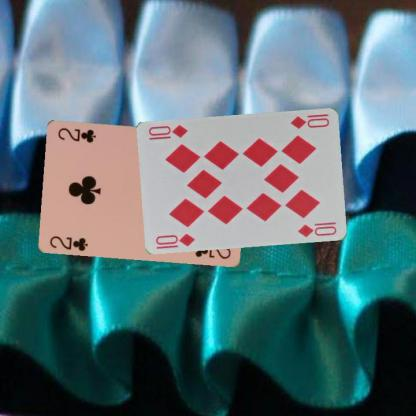10d: (288, 111, 331, 129), (154, 230, 196, 247)
2c: (48, 233, 90, 252)
